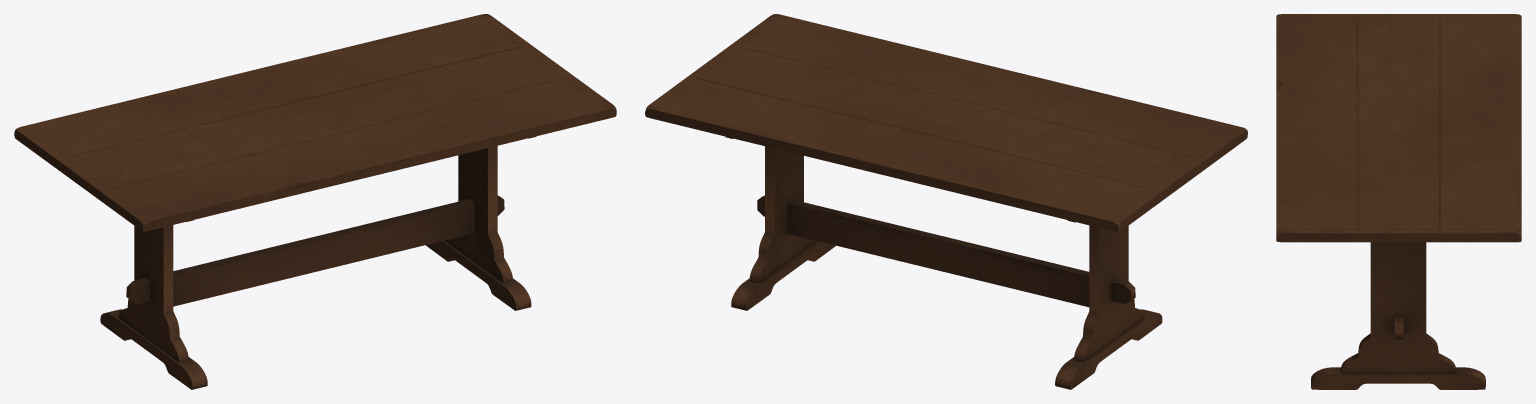
Rendered from table.glb.
The picture shows the model from 3 angles, left to right: view 1: azimuth 30°, elevation 25°; view 2: azimuth 150°, elevation 25°; view 3: azimuth 270°, elevation 25°; orthographic projection. The views are drawn at different scales.
Parts seen in each view (by area): view 1: table; view 2: table; view 3: table.
Boxes of the visible parts, x1,y1,x2,y2 form: table: [14, 14, 616, 389]; table: [645, 14, 1247, 389]; table: [1276, 14, 1521, 389].
Bounding box in the file's own units: 2.04 × 0.8148 × 0.9664.
Materials: 1 (1 with a texture image).
